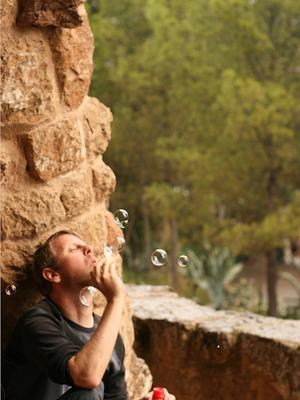person: (10, 230, 176, 400)
